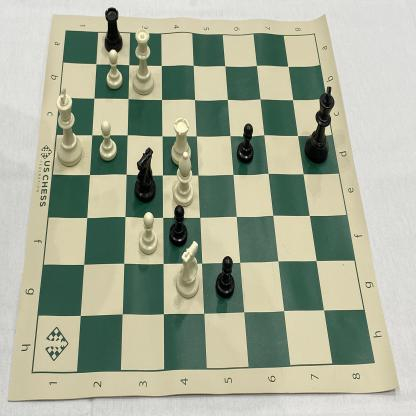black-king: (303, 82, 339, 166)
black-knight: (132, 143, 158, 207)
black-pawn: (213, 251, 238, 301), (167, 202, 190, 247), (234, 119, 256, 166)
black-rook: (104, 2, 124, 56)
white-bishop: (170, 150, 199, 209)
white-king: (52, 83, 87, 171)
white-knight: (173, 237, 203, 303)
white-pawn: (96, 118, 120, 163), (103, 46, 126, 92), (138, 211, 159, 260)
white-queen: (129, 24, 158, 97)
white-rook: (169, 115, 193, 169)
